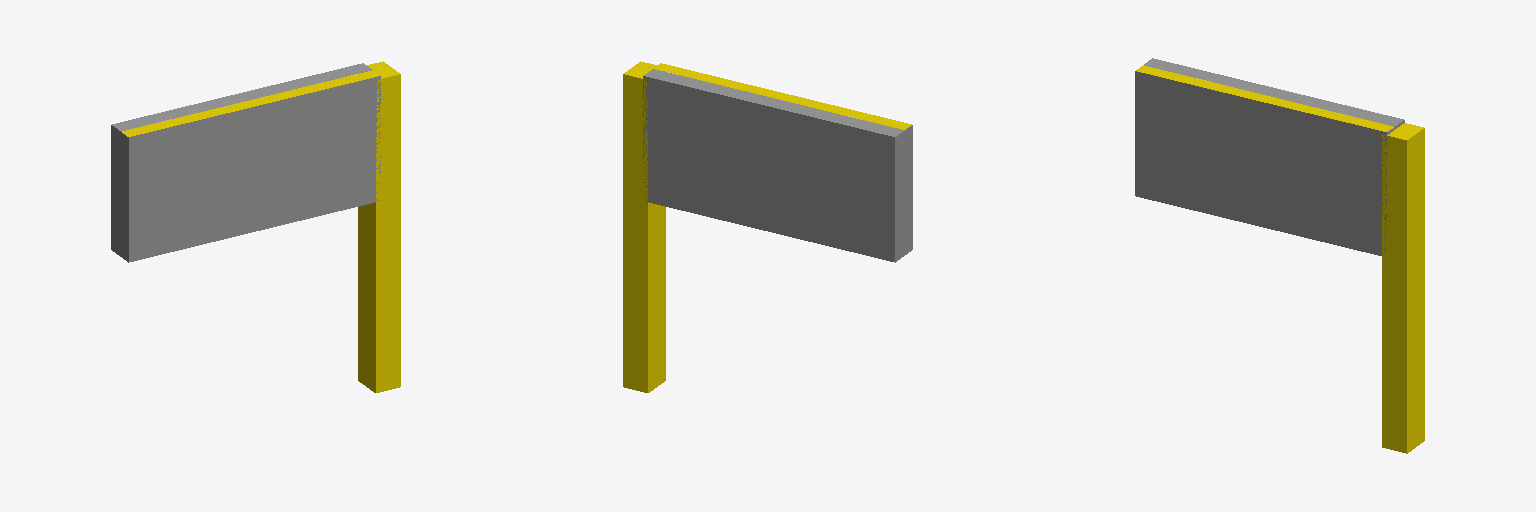
3 views of the same model, side by side, from view 1: azimuth 30°, elevation 25°; view 2: azimuth 150°, elevation 25°; view 3: azimuth 330°, elevation 25° (orthographic).
Visible parts, largest first — view 1: 立方体.001; view 2: 立方体.001; view 3: 立方体.001.
Part boxes in pixels (left/top/right/bottom): 立方体.001: left=111, top=61, right=400, bottom=392; 立方体.001: left=623, top=61, right=912, bottom=392; 立方体.001: left=1135, top=58, right=1424, bottom=453.
Size of the model in its own units: 0.9 by 1 by 0.1.
1 materials, 1 textured.